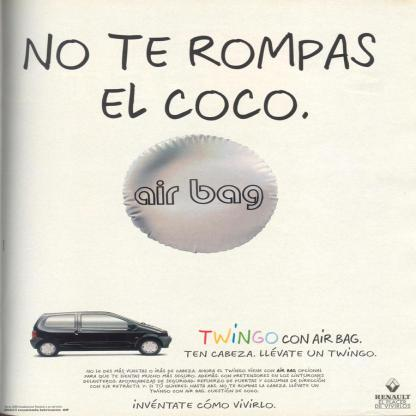Car: (30, 311, 174, 358)
